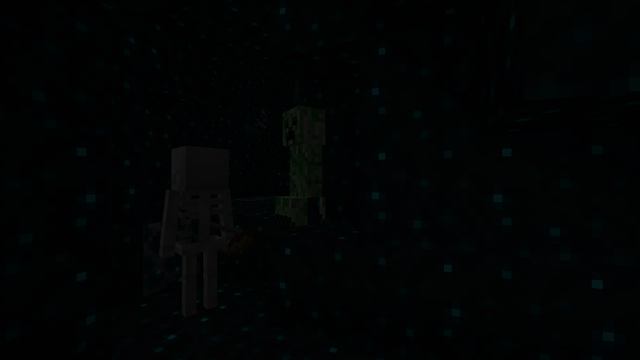creepers: (277, 98, 327, 225)
squelettes: (160, 146, 235, 327)
